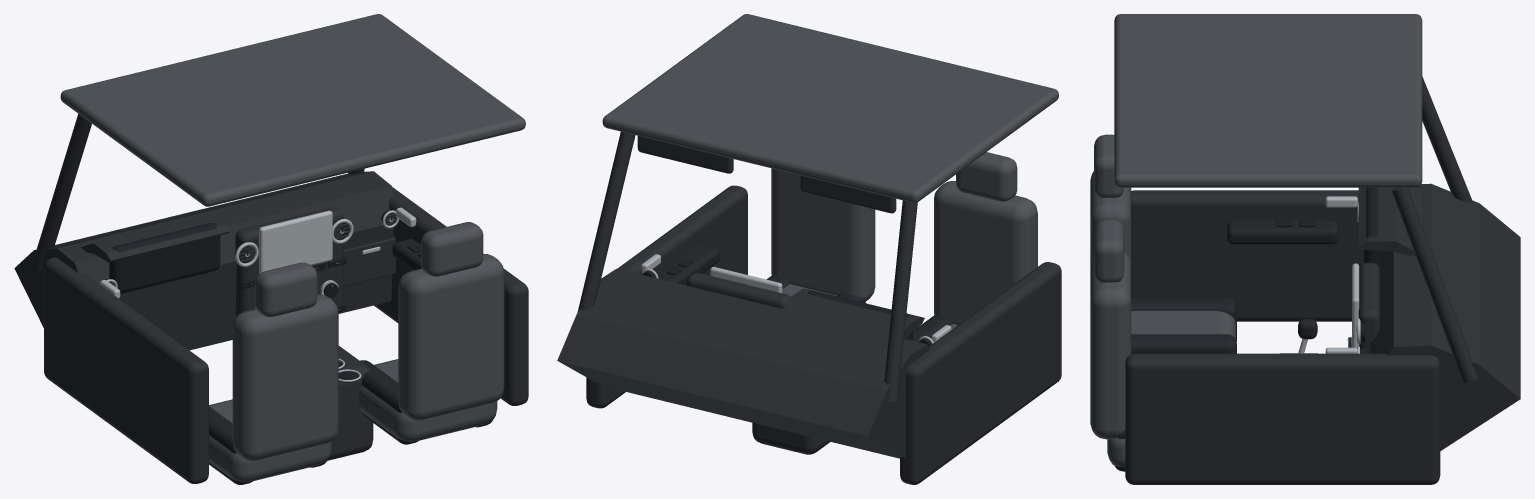
Rendered from cabin.glb.
3 renders of one model, left to right at view 1: azimuth 30°, elevation 25°; view 2: azimuth 150°, elevation 25°; view 3: azimuth 270°, elevation 25°, orthographic. The views are drawn at different scales.
Parts seen in each view (by area): view 1: cabin; view 2: cabin; view 3: cabin.
Part boxes in pixels (x1,y1,x2,y2): cabin: (14,14,528,484); cabin: (557,14,1061,484); cabin: (1090,14,1520,484).
Size of the model in its own units: 2.3 by 2.17 by 2.41.
7 materials, 1 textured.
